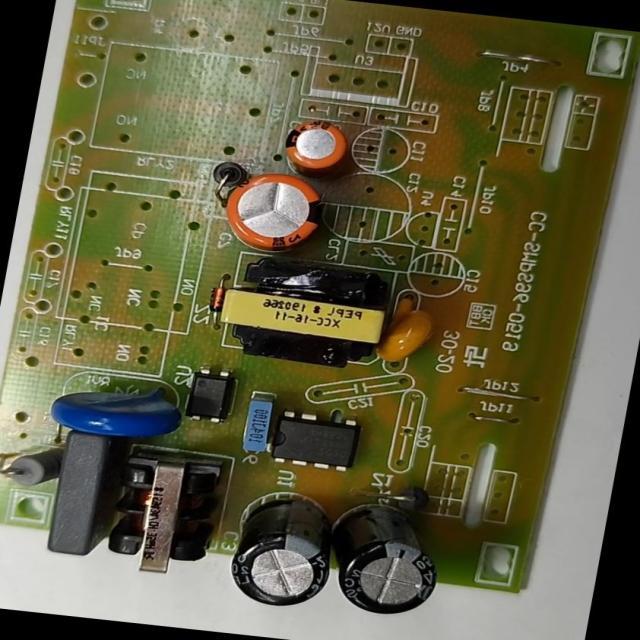Cap1: (210, 162, 338, 260)
Cap2: (274, 110, 360, 177)
Cap3: (215, 498, 344, 622)
Cap4: (323, 515, 450, 626)
MOSFET: (255, 396, 377, 479)
Mov: (28, 370, 191, 453)
Resistor: (0, 436, 68, 501)
Transformer: (202, 243, 408, 375), (82, 438, 236, 588)
